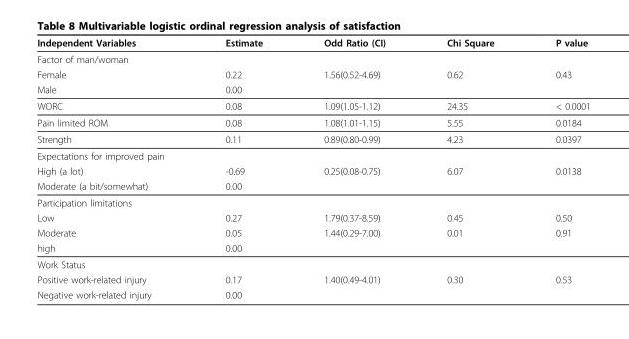table: (36, 36, 589, 299)
table column: (36, 36, 194, 299), (292, 36, 415, 299), (415, 36, 524, 299), (194, 36, 292, 299), (524, 36, 589, 299)
table column header: (36, 36, 589, 50)
table projected row header: (36, 50, 589, 66), (36, 147, 589, 163), (36, 255, 589, 271), (36, 194, 589, 209)
table row: (36, 97, 589, 114), (36, 130, 589, 147), (36, 50, 589, 66), (36, 81, 589, 97), (36, 114, 589, 130), (36, 147, 589, 163), (36, 178, 589, 194), (36, 224, 589, 240), (36, 255, 589, 271), (36, 66, 589, 81), (36, 163, 589, 178), (36, 194, 589, 209), (36, 209, 589, 224), (36, 240, 589, 255), (36, 271, 589, 286), (36, 36, 589, 50), (36, 286, 589, 299)
